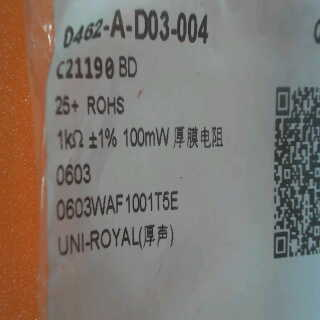1kR: (56, 125, 87, 155)
